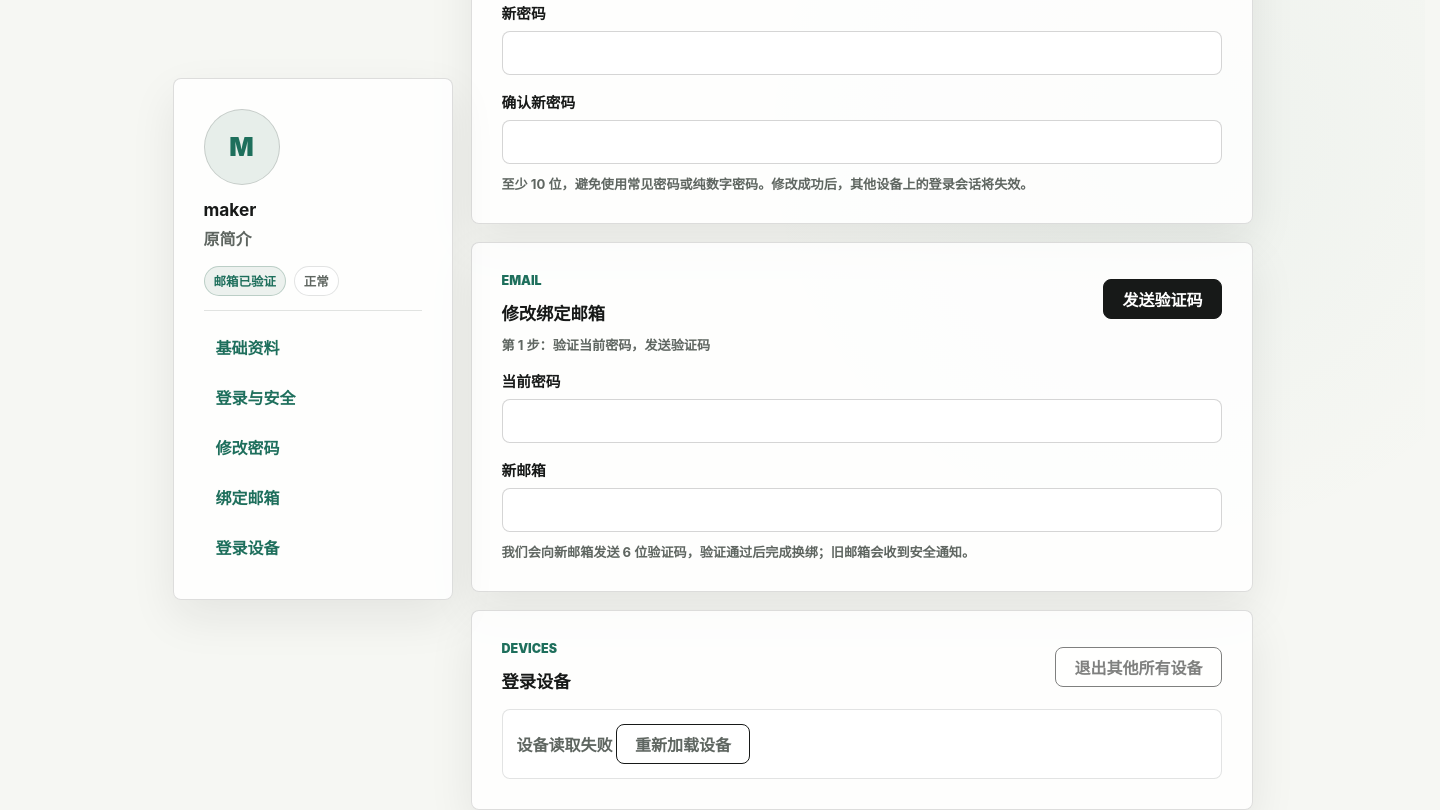
账号设置操作 › 设备读取失败可重试
(page scrolled)
Expected: the element with id "settings-devices" shows "设备读取失败", [516,735,616,755]
Click the button "重新加载设备".
click(683, 744)  # box [616,724,750,764]
(page scrolled)
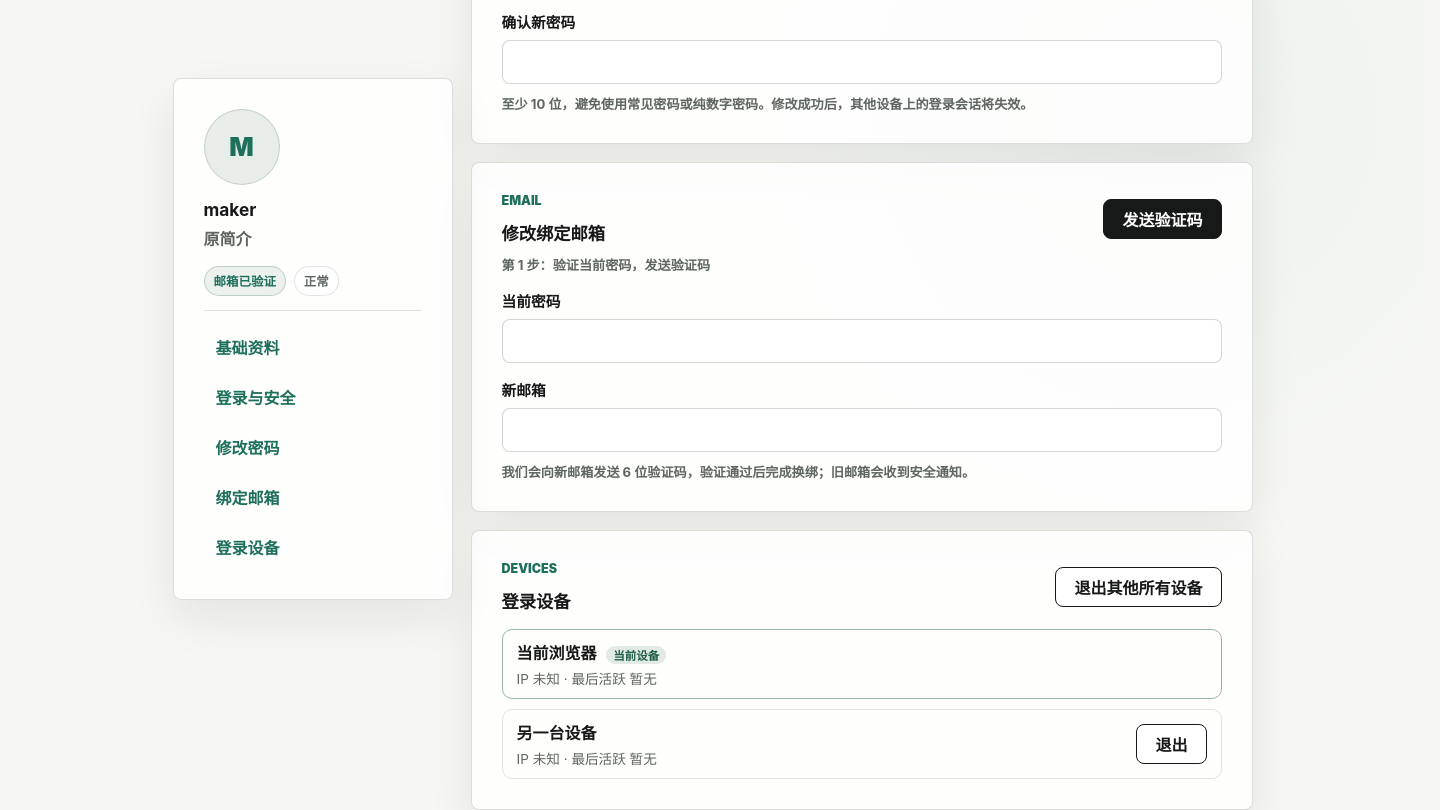
Expected: the element with id "settings-devices" shows "另一台设备", [516,723,596,743]
